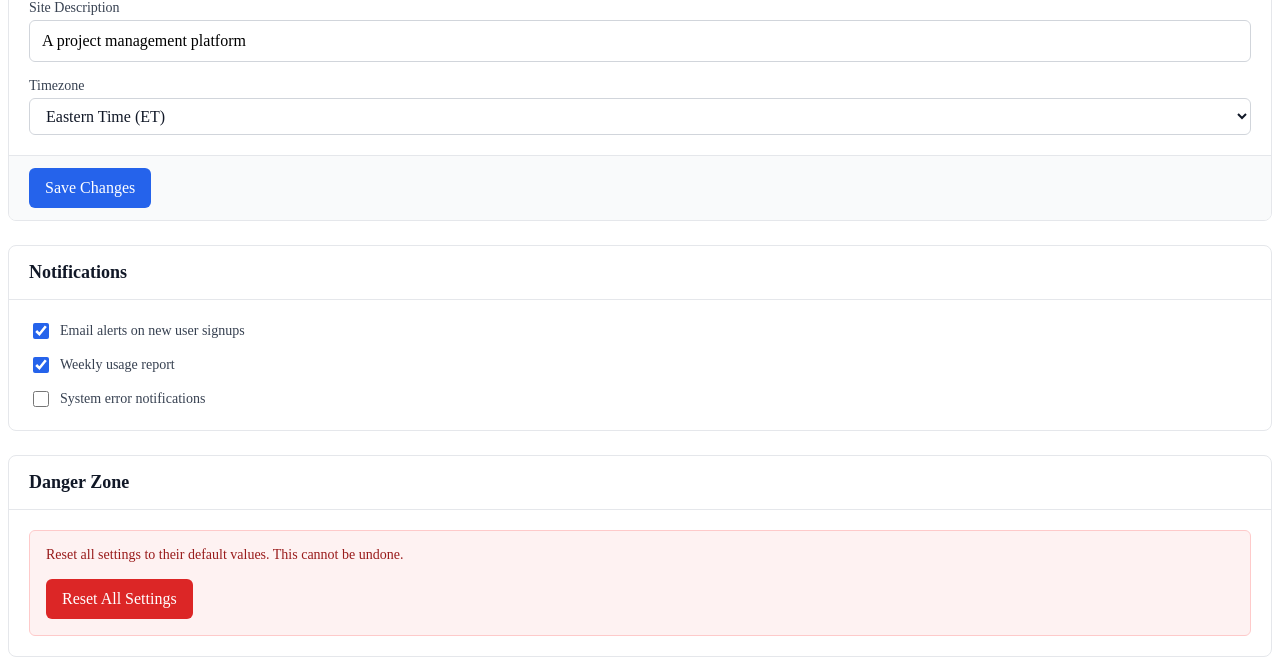
Test: Settings › shows confirmation on reset click
(page scrolled)
Click the button "Reset All Settings".
click(119, 599)  # box [46, 579, 193, 619]
(page scrolled)
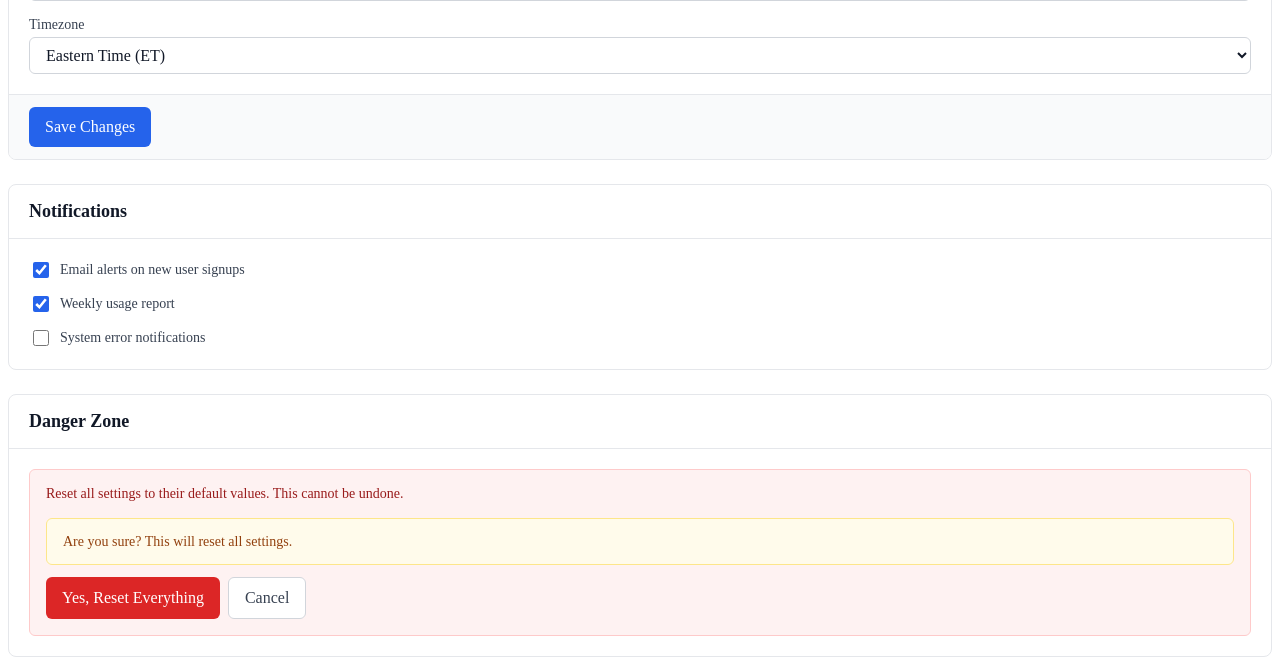
Result: the text "Are you sure? This will reset all settings." is shown at [46, 518, 1234, 565]
Result: the button "Yes, Reset Everything" is shown at [46, 577, 220, 619]
